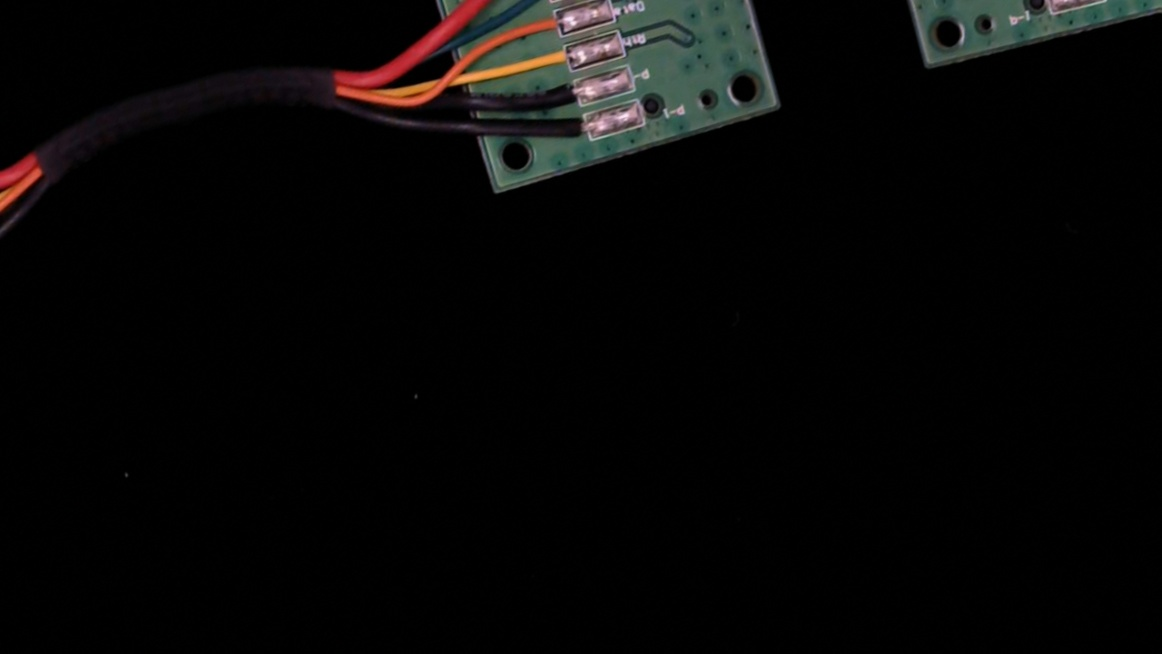Black: (532, 75, 596, 120)
Black1: (541, 112, 608, 157), (1087, 0, 1154, 9)
Green: (507, 0, 568, 16)
Orange: (518, 5, 578, 49)
Yellow: (525, 41, 589, 82)
